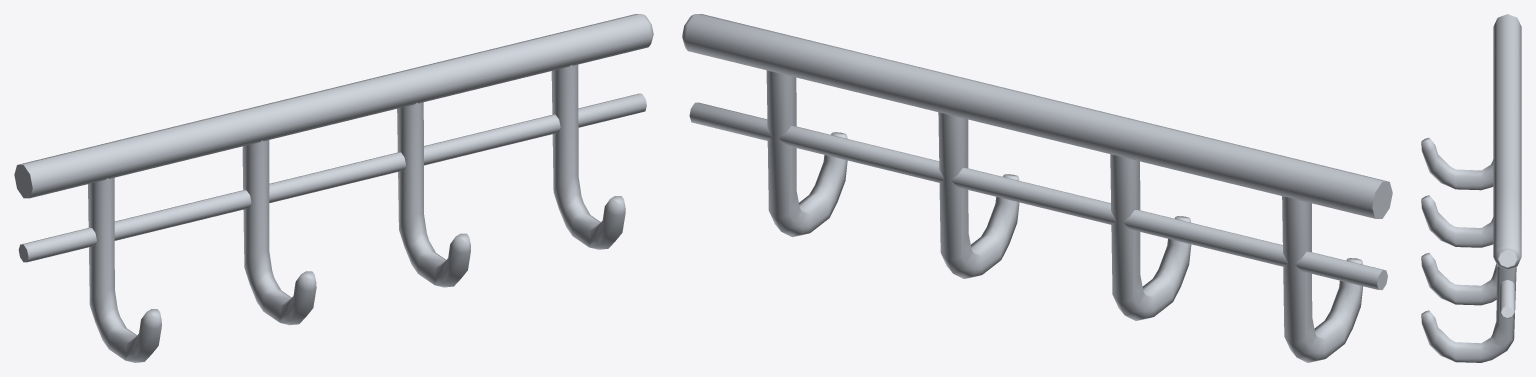
File: coat_hanger.glb
The picture shows the model from 3 angles, left to right: view 1: azimuth 30°, elevation 25°; view 2: azimuth 150°, elevation 25°; view 3: azimuth 270°, elevation 25°; orthographic projection. The views are drawn at different scales.
Parts seen in each view (by area): view 1: misc_hanger_5_Cylinder.016; view 2: misc_hanger_5_Cylinder.016; view 3: misc_hanger_5_Cylinder.016.
Boxes of the visible parts, x1=… form: misc_hanger_5_Cylinder.016: x1=14, y1=14, x2=653, y2=362; misc_hanger_5_Cylinder.016: x1=682, y1=14, x2=1392, y2=362; misc_hanger_5_Cylinder.016: x1=1421, y1=14, x2=1521, y2=362.
Bounding box in the file's own units: 8.08 × 2.39 × 1.47.
1 material, 1 textured.
